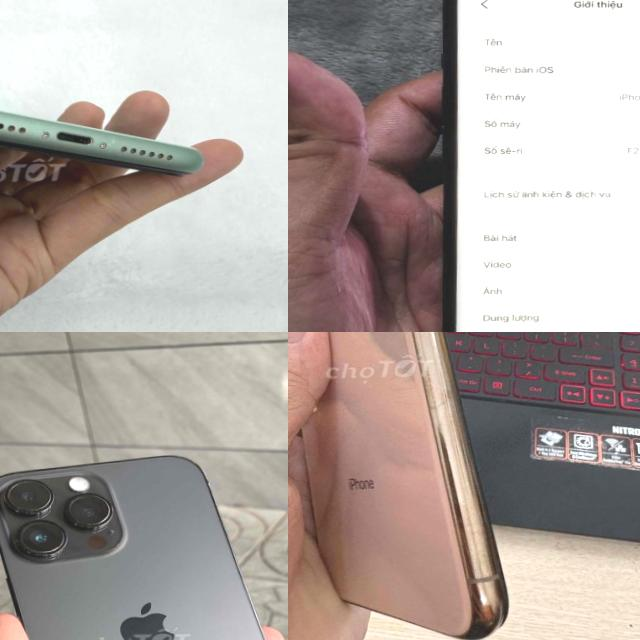gen_11: (0, 67, 209, 214)
gen_12_13: (431, 0, 640, 332)
gen_14: (0, 448, 288, 640)
gen_x_xs: (288, 332, 547, 640)
